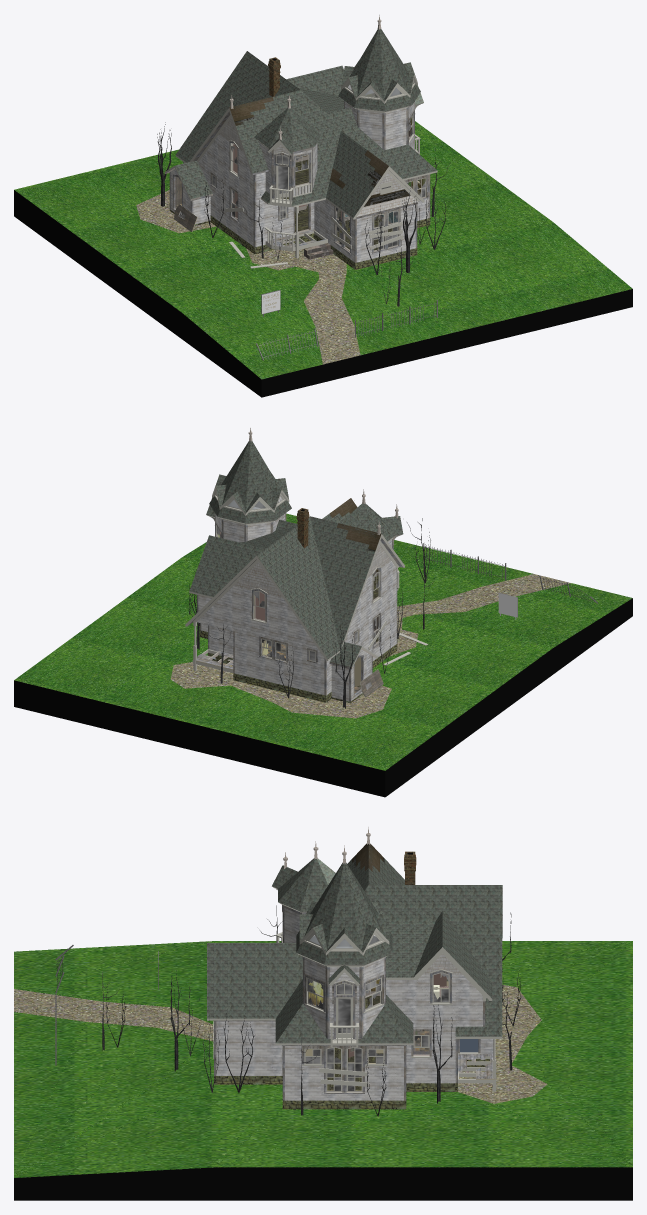
File: house.glb
The picture shows the model from 3 angles, top to bottom: view 1: azimuth 30°, elevation 25°; view 2: azimuth 150°, elevation 25°; view 3: azimuth 270°, elevation 25°; orthographic projection. The views are drawn at different scales.
Visible parts, largest first — view 1: Material3 (×12), Material2 (×4); view 2: Material3 (×10), Material2 (×2); view 3: Material3 (×10), Material2 (×4).
Boxes of the visible parts, x1=… form: Material3 (×12): x1=14, y1=28, x2=632, y2=397; Material2 (×4): x1=157, y1=74, x2=446, y2=303; Material3 (×10): x1=14, y1=441, x2=632, y2=797; Material2 (×2): x1=185, y1=486, x2=430, y2=698; Material3 (×10): x1=14, y1=843, x2=632, y2=1200; Material2 (×4): x1=102, y1=886, x2=521, y2=1116.
Bounding box in the file's own units: 5.17 × 3 × 5.97.
53 materials, 34 textured.
